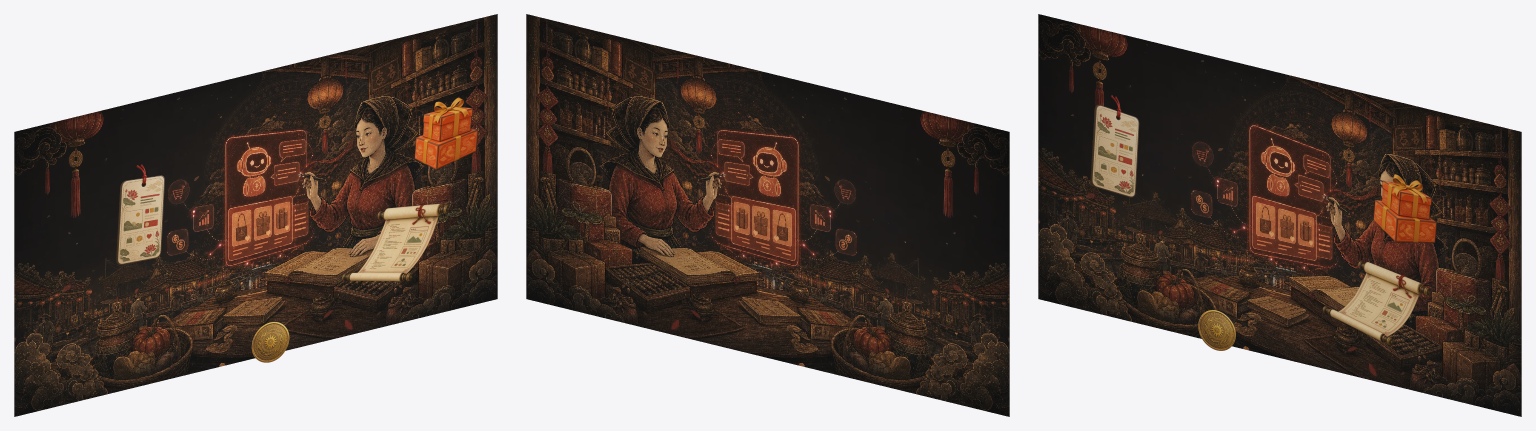
Rendered from EW26_Sidekick_bg_stars-optimized-77dfb0a56d.glb.
The picture shows the model from 3 angles, left to right: view 1: azimuth 30°, elevation 25°; view 2: azimuth 150°, elevation 25°; view 3: azimuth 330°, elevation 25°; orthographic projection.
Visible parts, largest first — view 1: Vietfolk_sidekick_background, Vietfolk_sidekick_scroll, Vietfolk_sidekick_tag, Vietfolk_sidekick_giftbox, Vietfolk_sidekick_coin; view 2: Vietfolk_sidekick_background; view 3: Vietfolk_sidekick_background, Vietfolk_sidekick_scroll, Vietfolk_sidekick_tag, Vietfolk_sidekick_giftbox, Vietfolk_sidekick_coin.
Boxes of the visible parts, bbox=[...] form: Vietfolk_sidekick_background: bbox=[14, 14, 497, 416]; Vietfolk_sidekick_scroll: bbox=[342, 203, 448, 281]; Vietfolk_sidekick_tag: bbox=[116, 164, 164, 265]; Vietfolk_sidekick_giftbox: bbox=[414, 97, 477, 169]; Vietfolk_sidekick_coin: bbox=[251, 322, 289, 362]; Vietfolk_sidekick_background: bbox=[526, 14, 1009, 416]; Vietfolk_sidekick_background: bbox=[1038, 14, 1521, 416]; Vietfolk_sidekick_scroll: bbox=[1322, 261, 1429, 345]; Vietfolk_sidekick_tag: bbox=[1090, 95, 1139, 197]; Vietfolk_sidekick_giftbox: bbox=[1373, 174, 1436, 242]; Vietfolk_sidekick_coin: bbox=[1198, 310, 1235, 350].
Size of the model in its own units: 3.6 by 2.03 by 0.5.
Materials: 5 (5 with a texture image).
